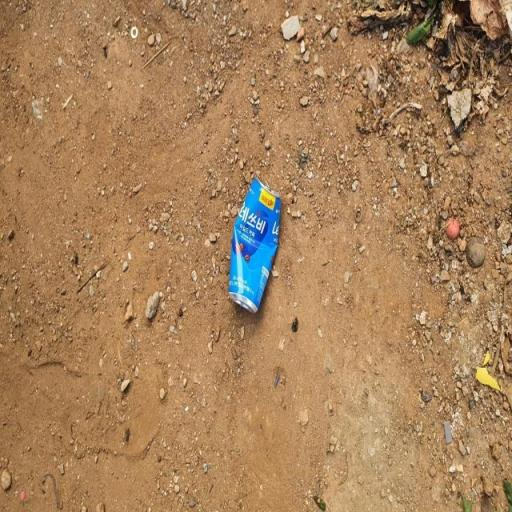metal: (216, 168, 288, 327)
